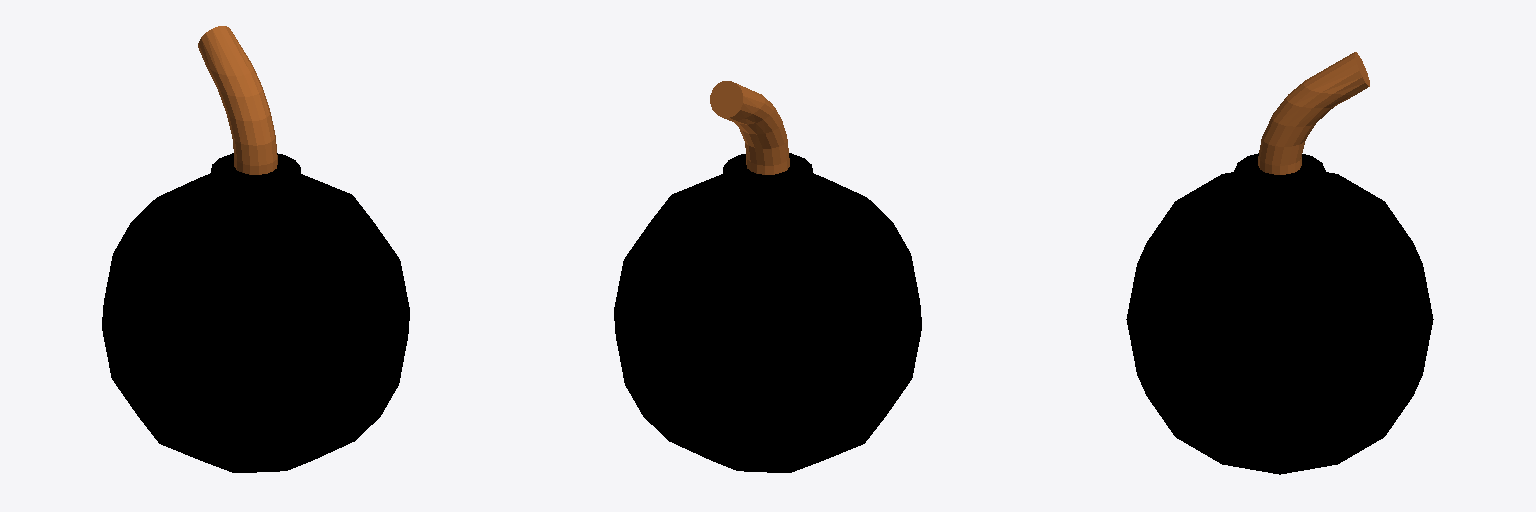
File: Bomb.obj
3 views of the same model, side by side, from view 1: azimuth 30°, elevation 25°; view 2: azimuth 150°, elevation 25°; view 3: azimuth 270°, elevation 25° (orthographic).
Parts seen in each view (by area): view 1: Bomb; view 2: Bomb; view 3: Bomb.
Boxes of the visible parts, x1=… form: Bomb: x1=102, y1=26, x2=409, y2=472; Bomb: x1=614, y1=81, x2=921, y2=472; Bomb: x1=1126, y1=52, x2=1433, y2=474.
Bounding box in the file's own units: 1.68 × 2.44 × 1.68.